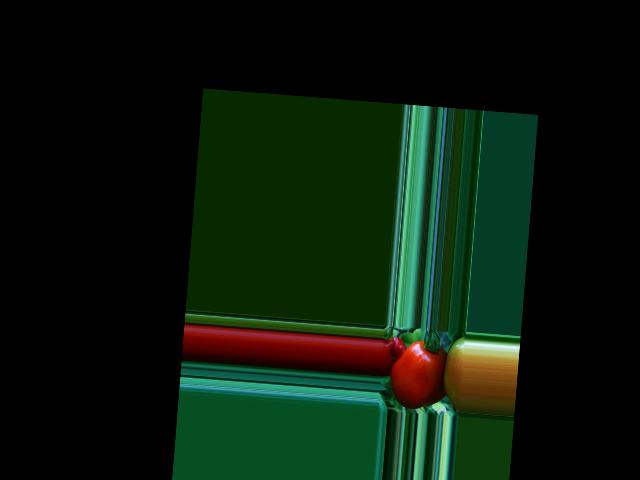tomato: (388, 338, 447, 411)
